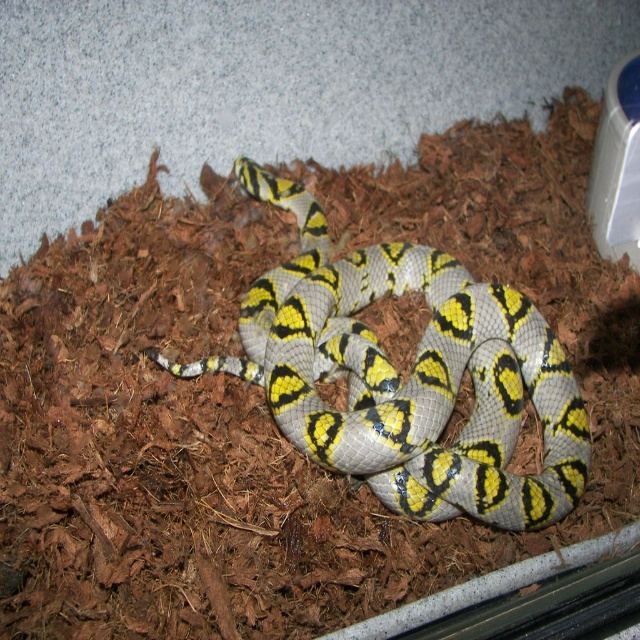Snake: (148, 157, 590, 532)
